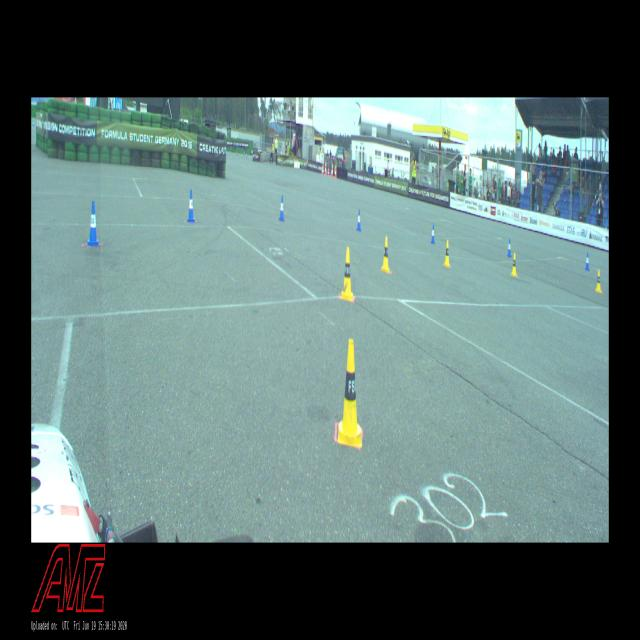blue_cone: (88, 201, 99, 246), (187, 189, 195, 222), (279, 196, 284, 220), (357, 210, 361, 230), (507, 238, 511, 256), (585, 252, 589, 270), (431, 225, 435, 242)
large_orange_cone: (331, 161, 333, 176), (335, 164, 337, 178), (325, 162, 326, 174), (322, 164, 323, 174), (328, 167, 329, 175)
yellow_cone: (338, 339, 362, 446), (340, 247, 353, 300), (382, 237, 389, 272), (444, 240, 450, 266), (511, 253, 517, 276), (596, 270, 602, 292)
